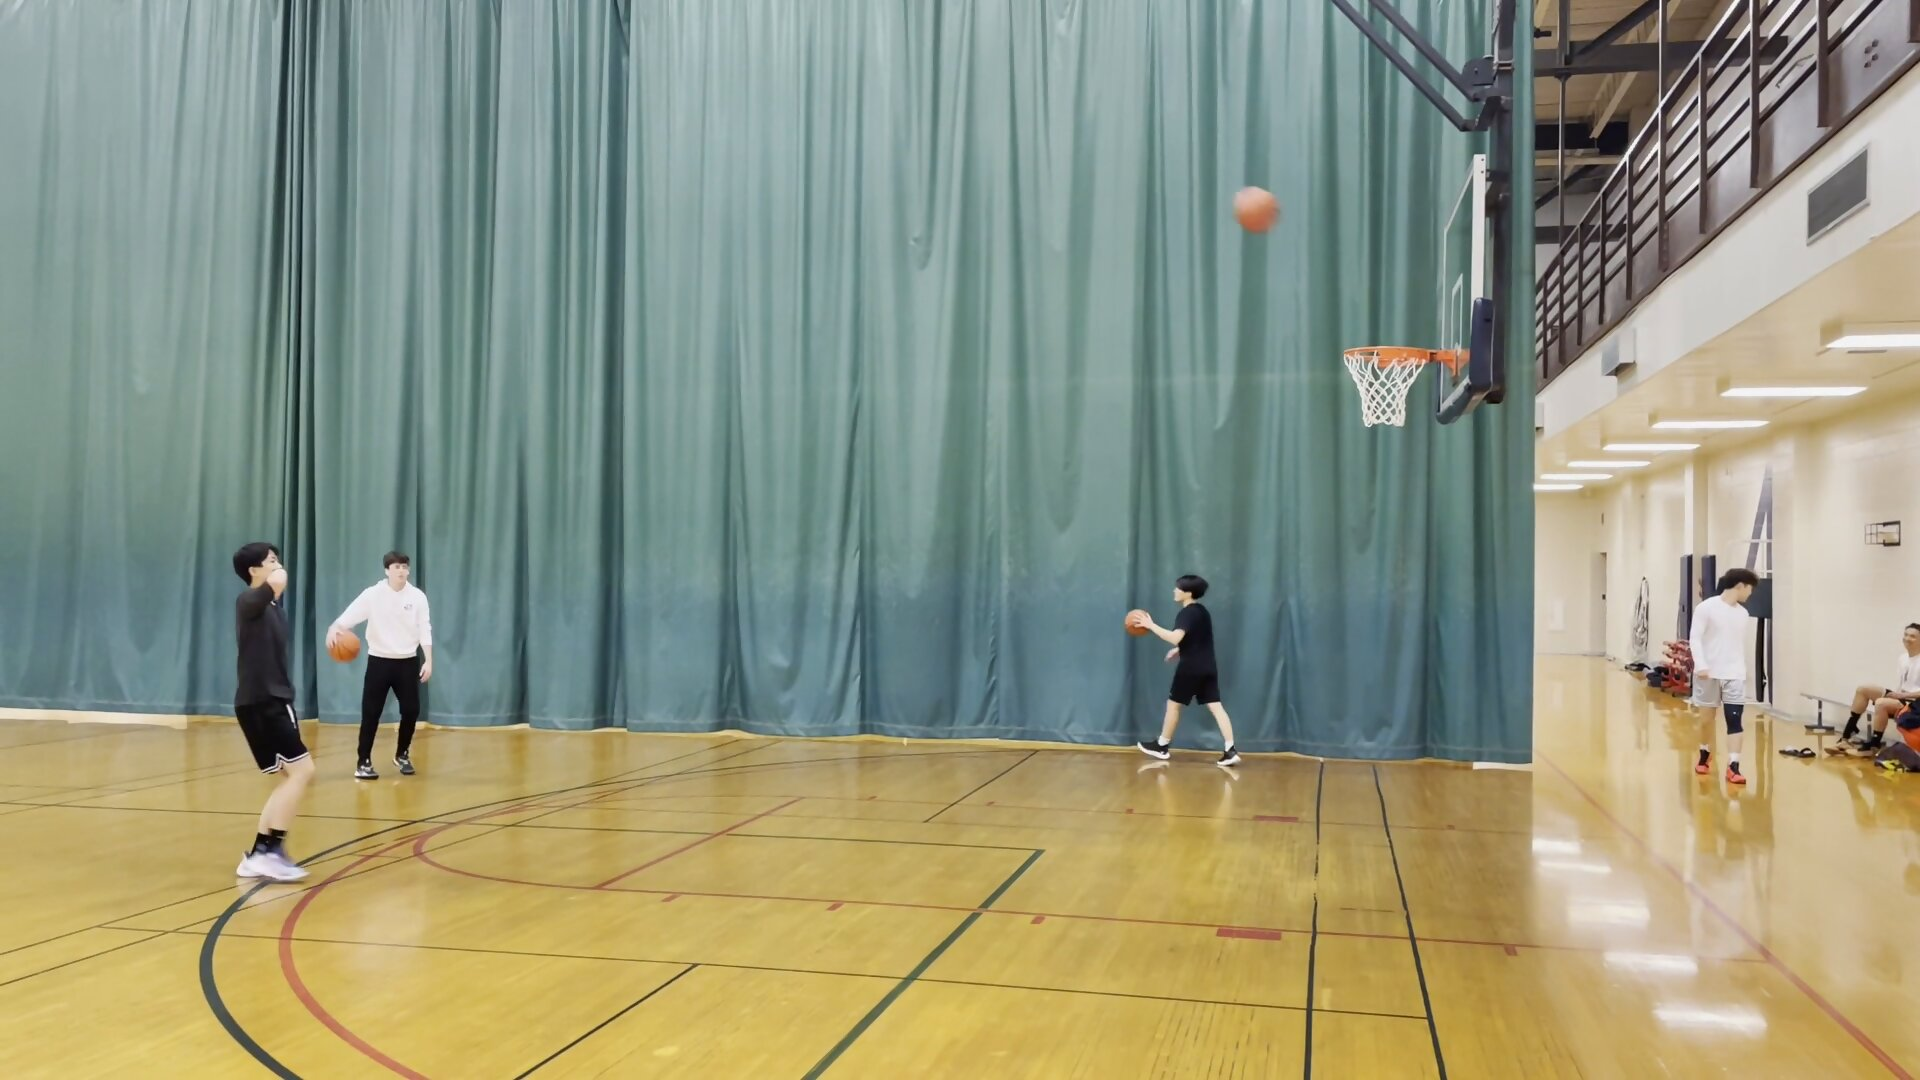ball: (1229, 186, 1282, 238), (329, 629, 360, 663), (1124, 610, 1151, 640)
net: (1350, 400, 1420, 430)
player: (226, 539, 316, 887), (331, 550, 434, 782), (1136, 577, 1248, 765), (1679, 564, 1751, 789), (1843, 620, 1920, 751)
rim: (1340, 338, 1434, 369)
